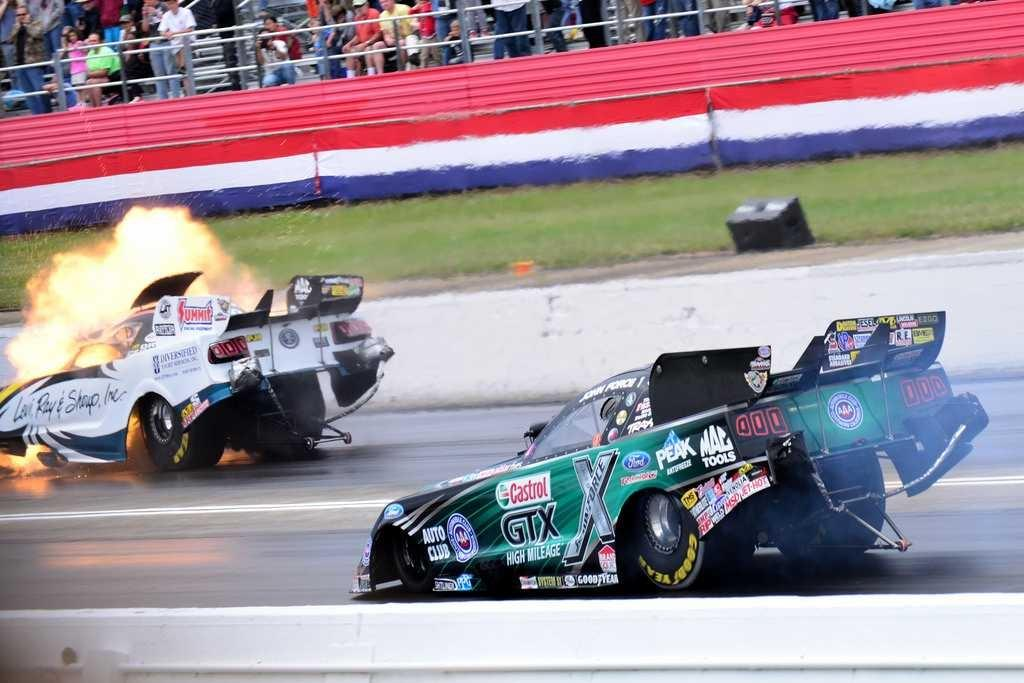fire: (32, 268, 108, 355), (122, 215, 212, 278)
